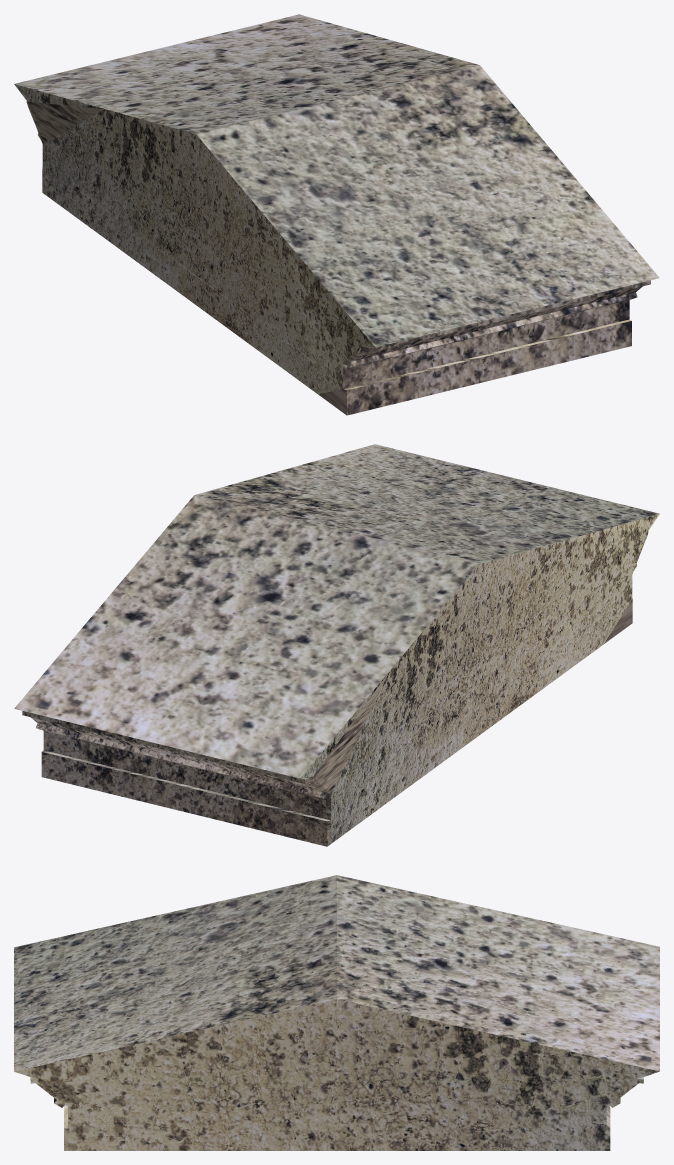
Rendered from Ruin_Roof_Mid.fbx.
3 renders of one model, top to bottom at view 1: azimuth 30°, elevation 25°; view 2: azimuth 150°, elevation 25°; view 3: azimuth 270°, elevation 25°, orthographic. The views are drawn at different scales.
Parts seen in each view (by area): view 1: Ruins_Mid; view 2: Ruins_Mid; view 3: Ruins_Mid.
Part boxes in pixels (x1,y1,x2,y2): Ruins_Mid: (14,14,659,415); Ruins_Mid: (14,444,659,846); Ruins_Mid: (14,875,659,1150).
Size of the model in its own units: 1191 by 672 by 2590.
1 material, 1 textured.
